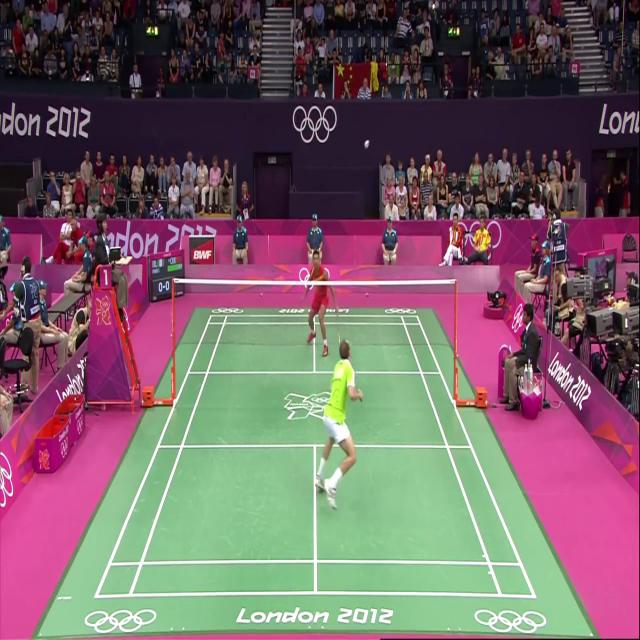Net: (174, 278, 458, 379)
Player1: (296, 317, 370, 516)
Player2: (304, 226, 339, 356)
Shuttlecock: (362, 118, 377, 155)
